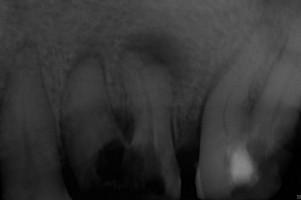Dental Caries: (120, 32, 193, 86), (65, 48, 106, 84), (111, 105, 134, 142)
Furcation Involvement: (13, 34, 39, 60)
